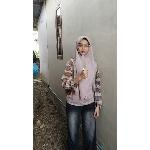Pisau: (80, 53, 90, 81)
